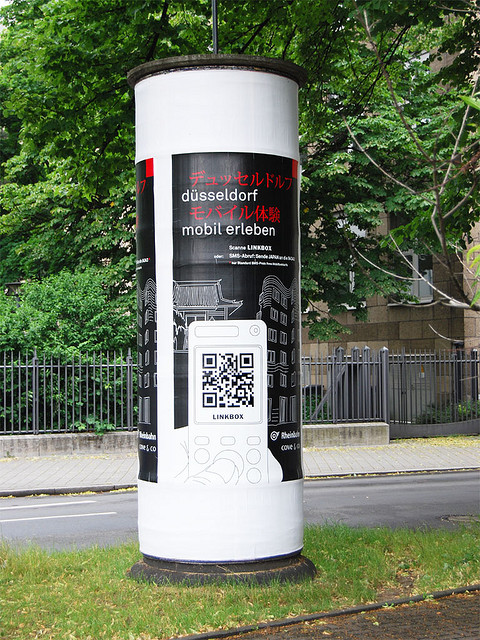QR-CODE: (202, 353, 253, 407)
